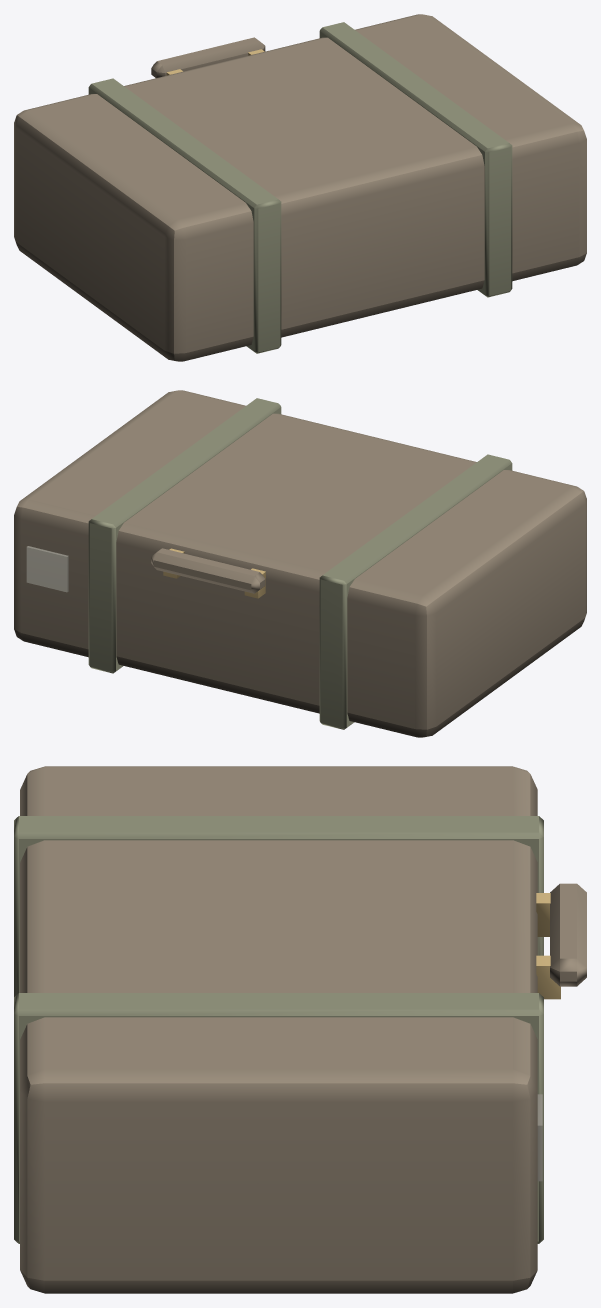
The model's file is suitcase_shut.glb.
The picture shows the model from 3 angles, top to bottom: view 1: azimuth 30°, elevation 25°; view 2: azimuth 150°, elevation 25°; view 3: azimuth 270°, elevation 25°; orthographic projection. The views are drawn at different scales.
Parts seen in each view (by area): view 1: static; view 2: static; view 3: static.
Part boxes in pixels (box(x1,y1,x2,y2)): static: box(14, 14, 586, 361); static: box(14, 390, 586, 737); static: box(14, 766, 586, 1293).
Size of the model in its own units: 0.62 by 0.21 by 0.465.
